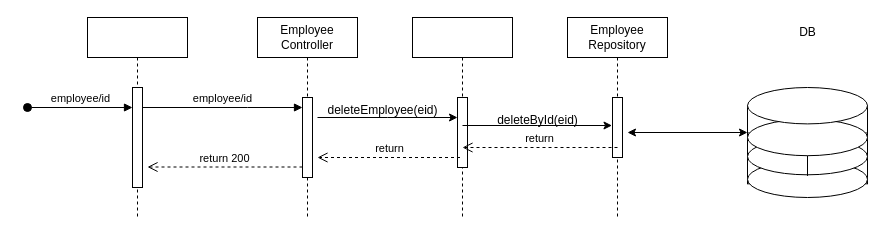
Some shapes in this 885 by 235 pixel diagram are drawn without their labels. The centre of each missing label's shape, as x and y in pixels:
API Gateway: pixel 137 117
Employee Service: pixel 462 117
